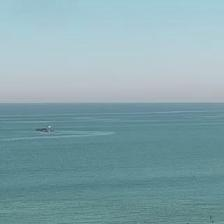surfer: (211, 220, 214, 224), (210, 216, 212, 218), (186, 223, 190, 223)
